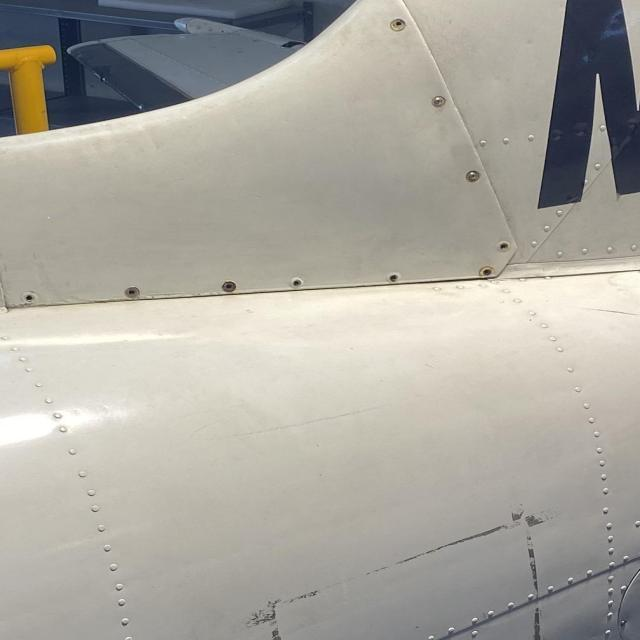Missing-head: (388, 19, 408, 32), (221, 281, 238, 294), (479, 266, 496, 278), (123, 287, 140, 298), (497, 242, 512, 252), (290, 277, 302, 289), (387, 273, 401, 283), (24, 293, 35, 303)
